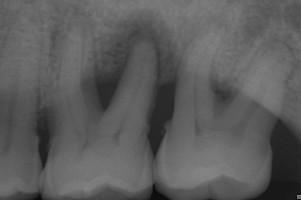Dental Caries: (95, 7, 179, 110), (46, 0, 96, 65)
Endo-Periodontal Lesion: (211, 79, 238, 103)
